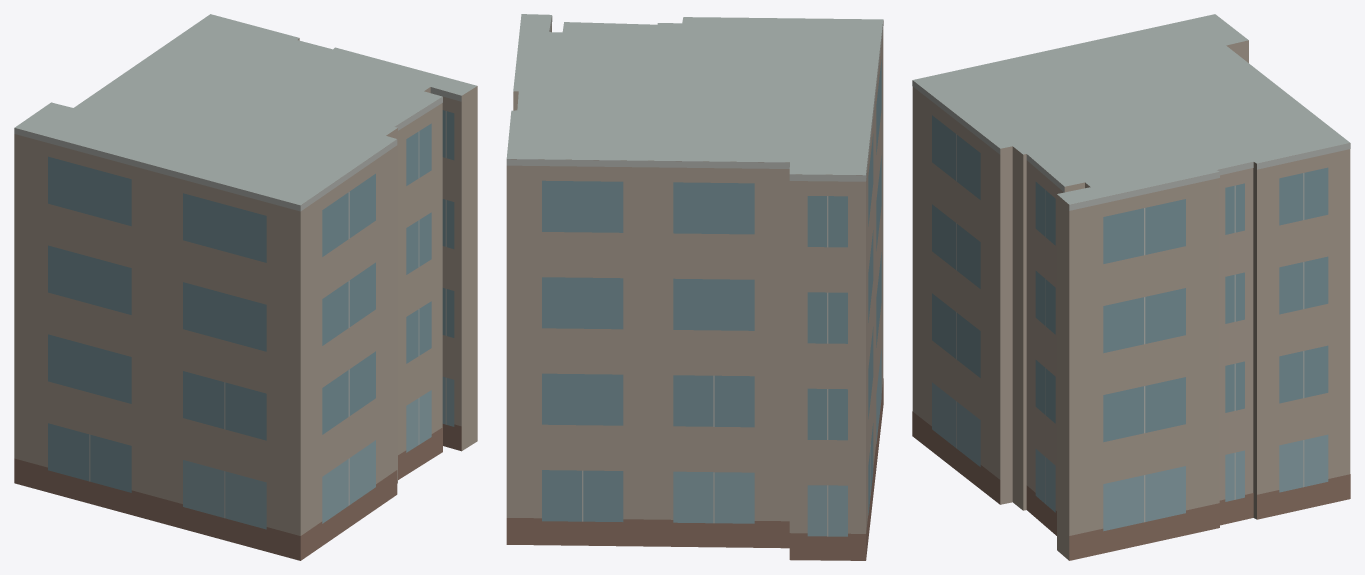
The model's file is survey-upis-32863826.glb.
3 views of the same model, side by side, from view 1: azimuth 30°, elevation 25°; view 2: azimuth 150°, elevation 25°; view 3: azimuth 270°, elevation 25° (orthographic). The views are drawn at different scales.
Parts seen in each view (by area): view 1: survey-upis-32863826.tmp; view 2: survey-upis-32863826.tmp; view 3: survey-upis-32863826.tmp.
Boxes of the visible parts, x1=… form: survey-upis-32863826.tmp: x1=14, y1=14, x2=477, y2=560; survey-upis-32863826.tmp: x1=506, y1=14, x2=883, y2=560; survey-upis-32863826.tmp: x1=912, y1=14, x2=1350, y2=560.
Bounding box in the file's own units: 16.3 × 14.18 × 15.82.
